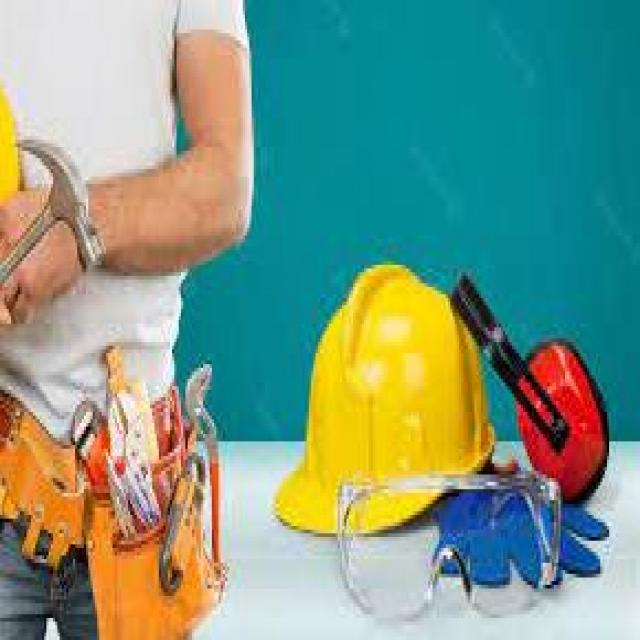Safety-Helmet: (269, 258, 510, 544), (0, 22, 40, 235)
